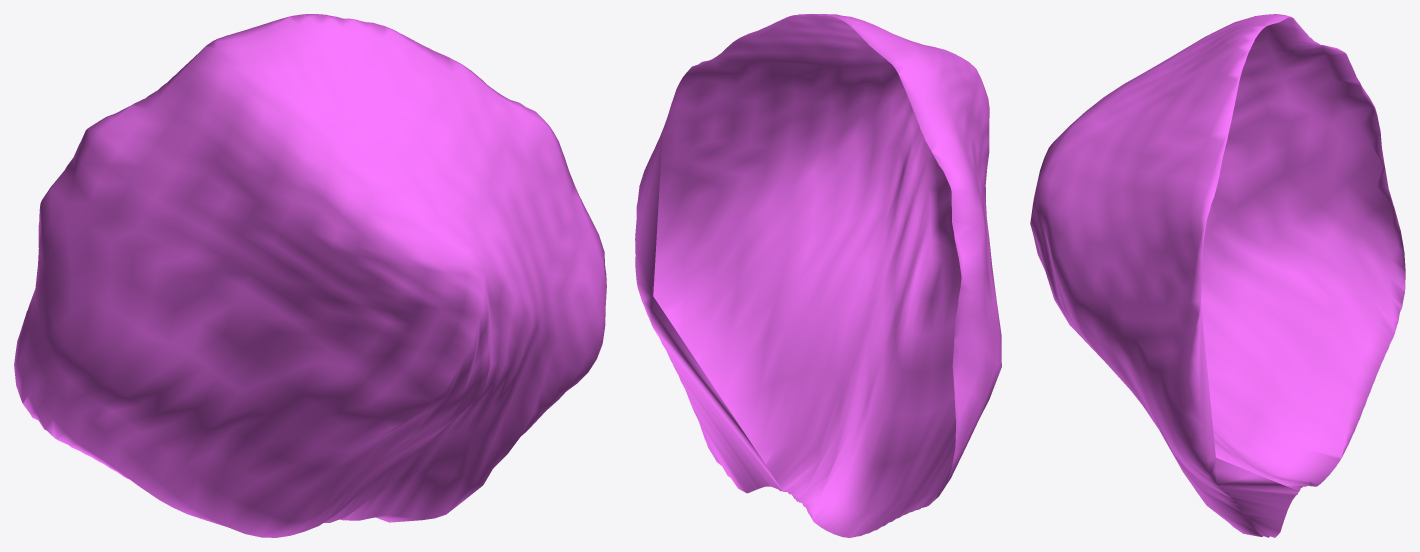
File: Caries_1_OC.glb
The picture shows the model from 3 angles, left to right: view 1: azimuth 30°, elevation 25°; view 2: azimuth 150°, elevation 25°; view 3: azimuth 270°, elevation 25°; orthographic projection. The views are drawn at different scales.
Parts seen in each view (by area): view 1: E1.001; view 2: E1.001; view 3: E1.001.
Boxes of the visible parts, x1,y1,x2,y2 form: E1.001: [14, 14, 606, 537]; E1.001: [635, 14, 1001, 537]; E1.001: [1030, 14, 1405, 537].
Bounding box in the file's own units: 1.04 × 1.13 × 0.8301.
